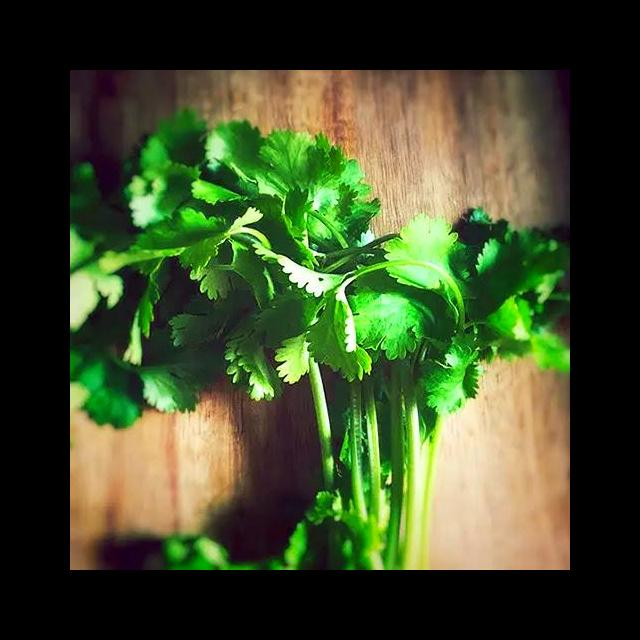cilantro: (70, 106, 569, 568)
